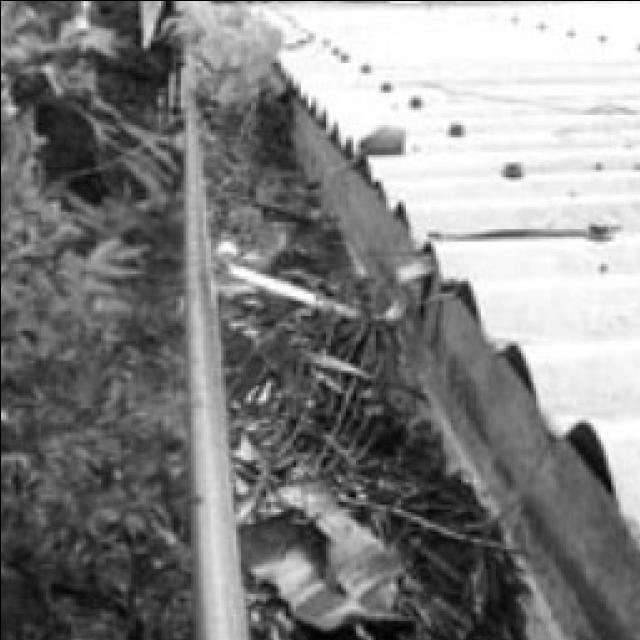Breeding Place: (183, 90, 633, 640)
